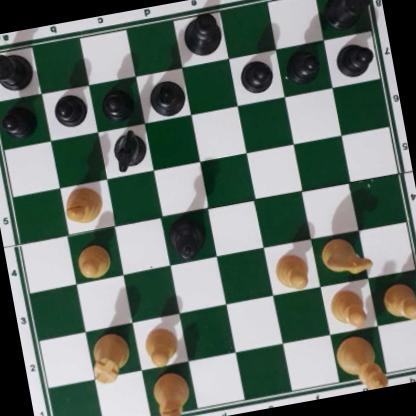black-bishop: (144, 75, 190, 120)
black-king: (179, 10, 227, 60)
black-knight: (107, 126, 151, 174)
black-pawn: (333, 38, 375, 80), (282, 46, 323, 86), (236, 55, 275, 95), (98, 84, 136, 123), (51, 91, 88, 130), (0, 102, 38, 139)
black-queen: (163, 212, 210, 263)
black-rook: (0, 44, 37, 95), (321, 0, 375, 31)
white-bishop: (150, 370, 195, 416), (60, 183, 106, 227)
white-king: (332, 330, 391, 395)
white-knight: (317, 232, 375, 282)
white-pawn: (327, 284, 371, 332), (72, 240, 115, 282), (141, 324, 181, 369), (271, 250, 311, 293), (380, 279, 416, 322)
white-rook: (85, 330, 134, 387)
